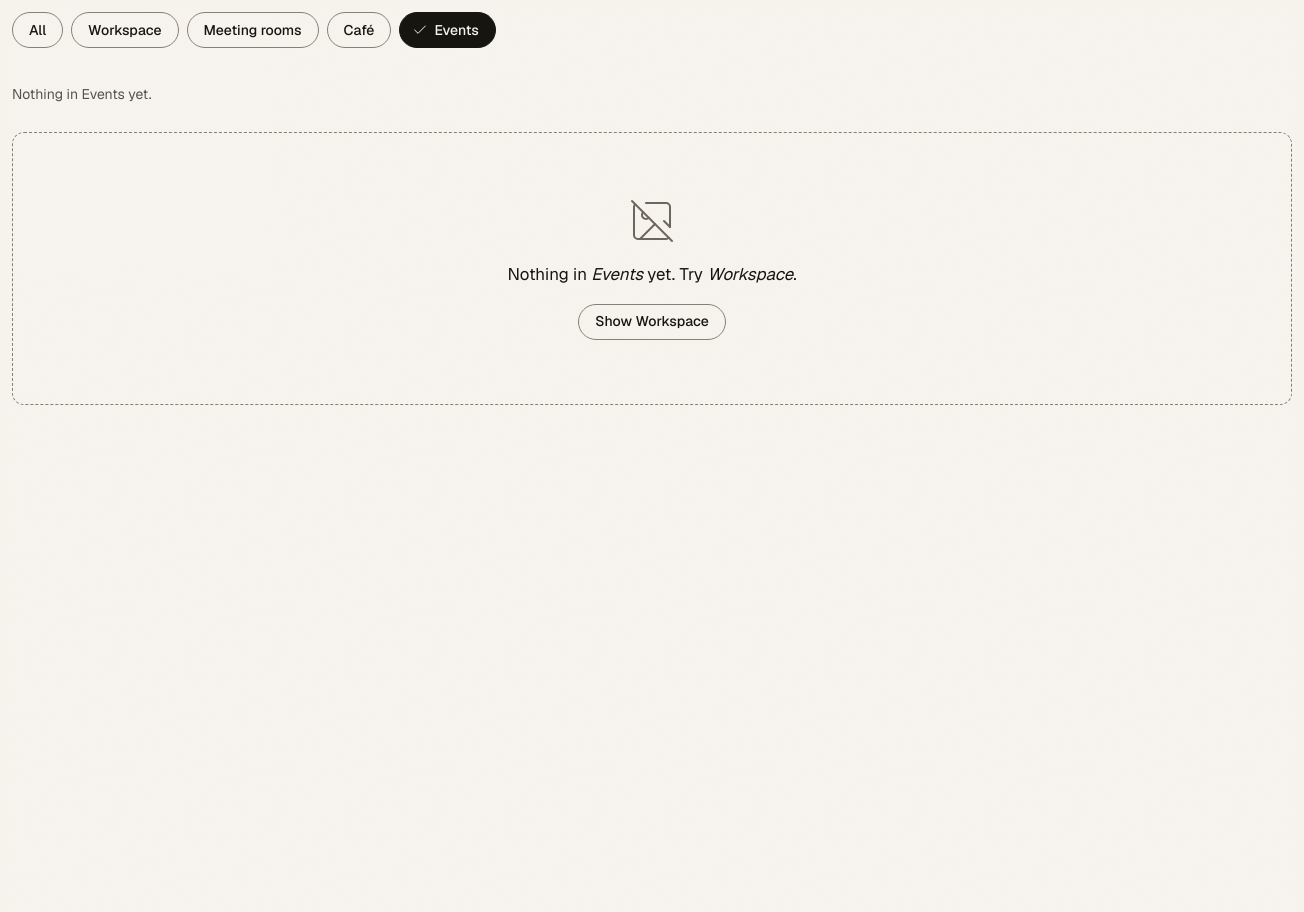
it: GalleryBrowser › suggests another category when one is empty, and hands focus to its chip
Expected: the text "Nothing in Events yet." is shown, [12,84,152,102]
Expected: the text "Nothing in Events yet. Try Workspace." is shown, [507,261,797,288]
Click the button "Show Workspace".
click(652, 322)  # box [578,304,726,340]
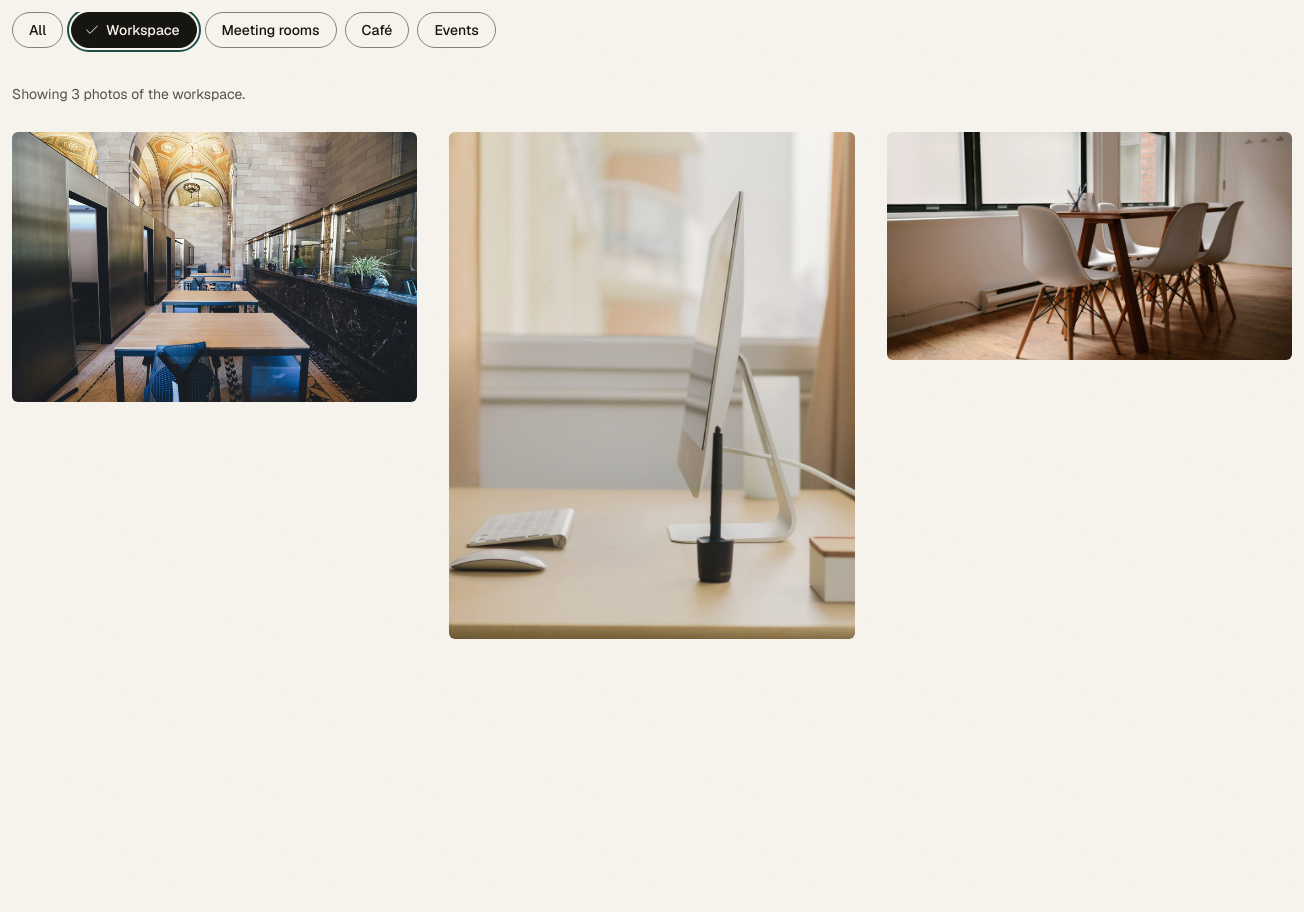
Result: the number of pictures is 3 at [12,132,417,402]; [449,132,855,639]; [887,132,1292,360]
